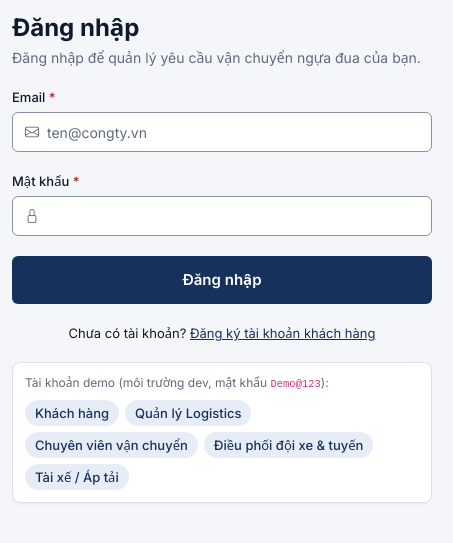
Test: LoginPage › email sai định dạng
The image size is (453, 543).
Type "khong-phai-email" into the field labelled "Email *".
click(233, 132); type("khong-phai-email")  # box top-left (47, 113), bottom-right (419, 151)
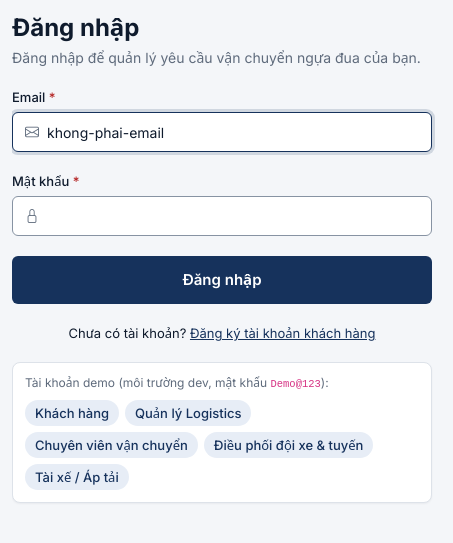
Type "x" into the password field labelled "Mật khẩu *".
click(233, 216); type("x")  # box top-left (47, 197), bottom-right (419, 235)
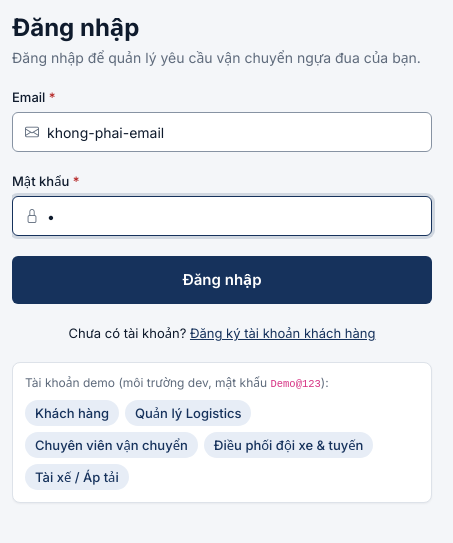
Click the button "Đăng nhập".
click(222, 280)  # box top-left (12, 256), bottom-right (432, 304)
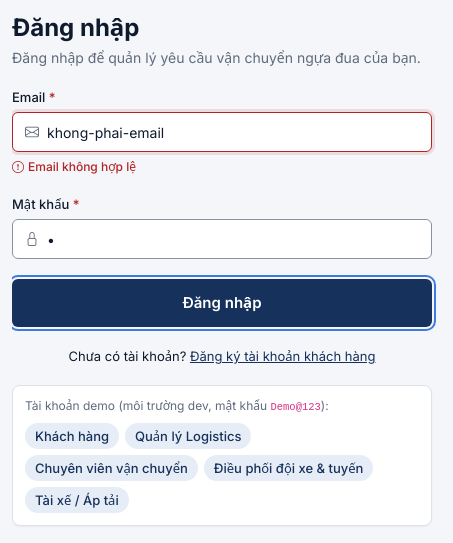
Check: the text "Email không hợp lệ" is shown, box top-left (12, 158), bottom-right (136, 175)
